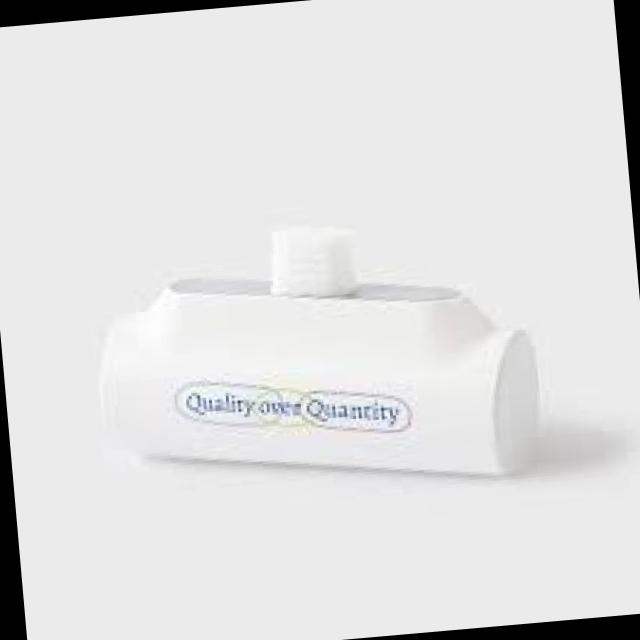power_bank: (81, 205, 548, 522)
